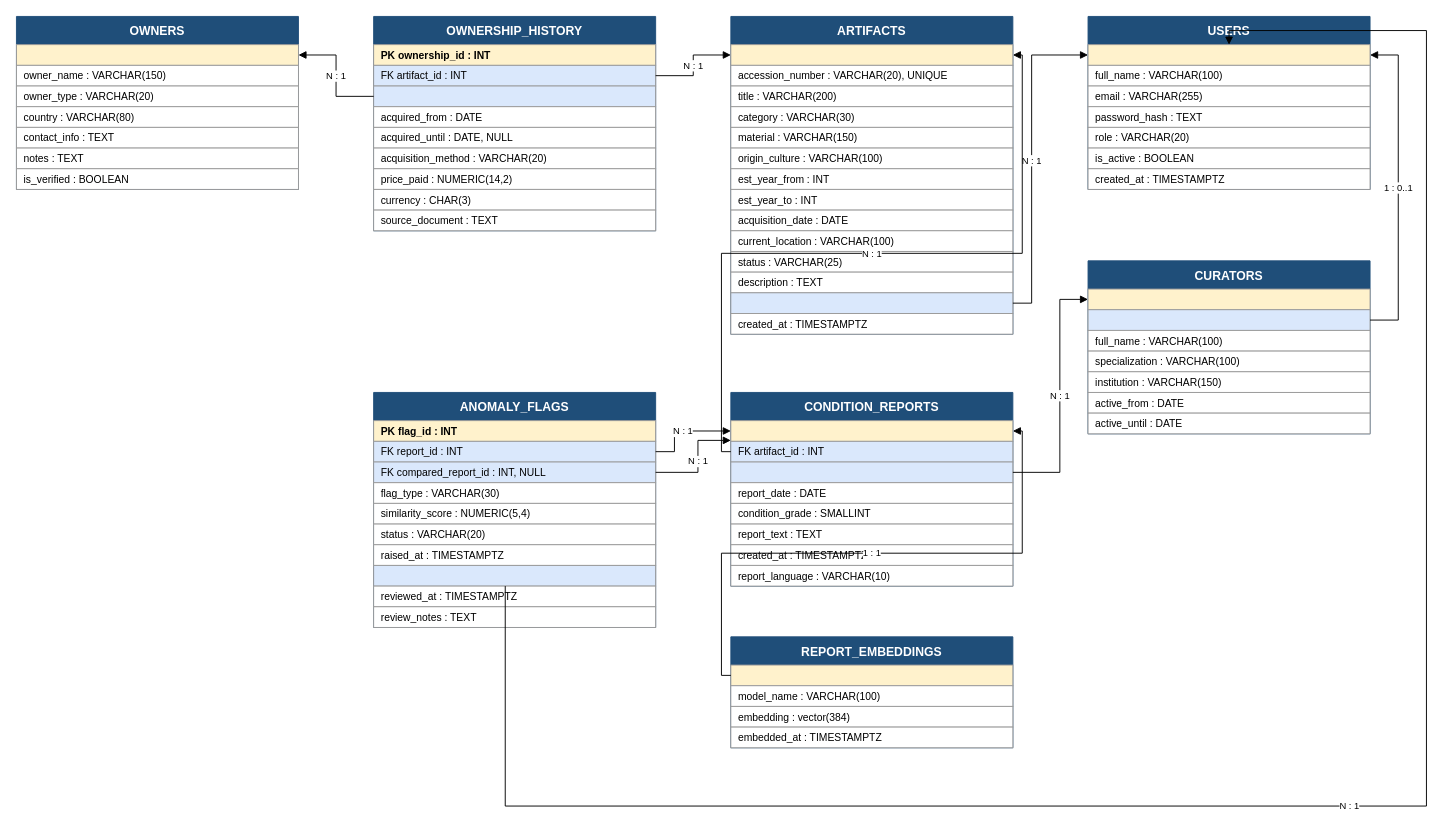
This 1450x830 diagram has some shape labels left out. Each missing label, with the centre of its shape:
FK created_by : INT, NULL: [871,302]
FK curator_id : INT: [871,472]
FK owner_id : INT: [514,96]
FK reviewed_by : INT, NULL: [514,575]
FK user_id : INT, UNIQUE, NULL: [1228,319]
PK artifact_id : INT: [871,54]
PK curator_id : INT: [1228,299]
PK owner_id : INT: [157,54]
PK report_id : INT: [871,430]
PK user_id : INT: [1228,54]
PK, FK report_id : INT: [871,675]
